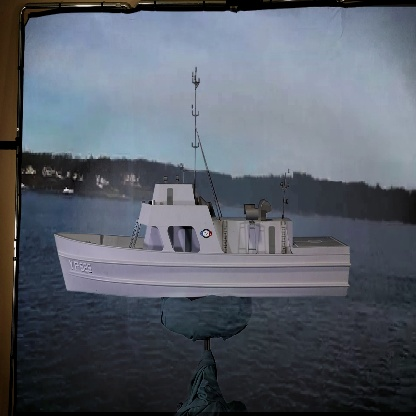YP689: (43, 53, 360, 301)
